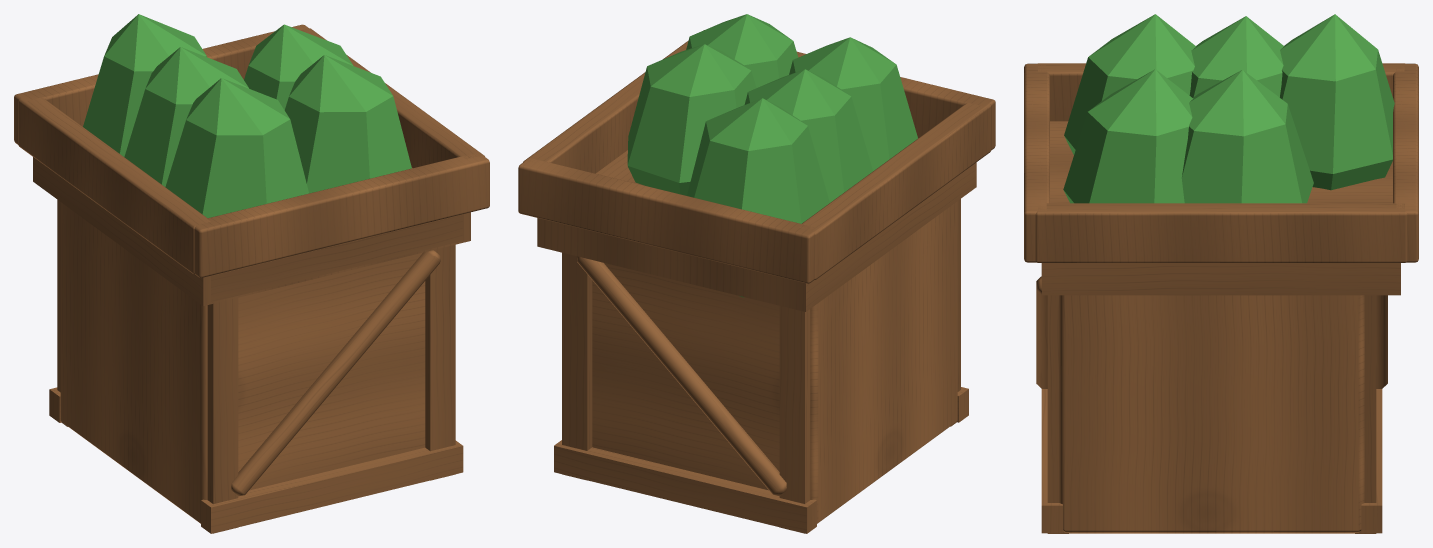
The model's file is cargo_jade.glb.
3 renders of one model, left to right at view 1: azimuth 30°, elevation 25°; view 2: azimuth 150°, elevation 25°; view 3: azimuth 270°, elevation 25°, orthographic. The views are drawn at different scales.
Visible parts, largest first — view 1: Solid_Ref_D19_Wood, Solid_Ref_D19_Deck, Solid_Ref_Jade; view 2: Solid_Ref_D19_Wood, Solid_Ref_D19_Deck, Solid_Ref_Jade; view 3: Solid_Ref_D19_Deck, Solid_Ref_D19_Wood, Solid_Ref_Jade.
Boxes of the visible parts, bbox=[...] form: Solid_Ref_D19_Wood: bbox=[14, 24, 489, 533]; Solid_Ref_D19_Deck: bbox=[60, 202, 425, 523]; Solid_Ref_Jade: bbox=[83, 14, 411, 217]; Solid_Ref_D19_Wood: bbox=[518, 40, 995, 533]; Solid_Ref_D19_Deck: bbox=[592, 201, 957, 523]; Solid_Ref_Jade: bbox=[627, 14, 917, 297]; Solid_Ref_D19_Deck: bbox=[1059, 295, 1364, 533]; Solid_Ref_D19_Wood: bbox=[1024, 63, 1418, 533]; Solid_Ref_Jade: bbox=[1063, 14, 1394, 203].
Bounding box in the file's own units: 0.755 × 0.9965 × 0.835.
3 materials, 2 textured.
